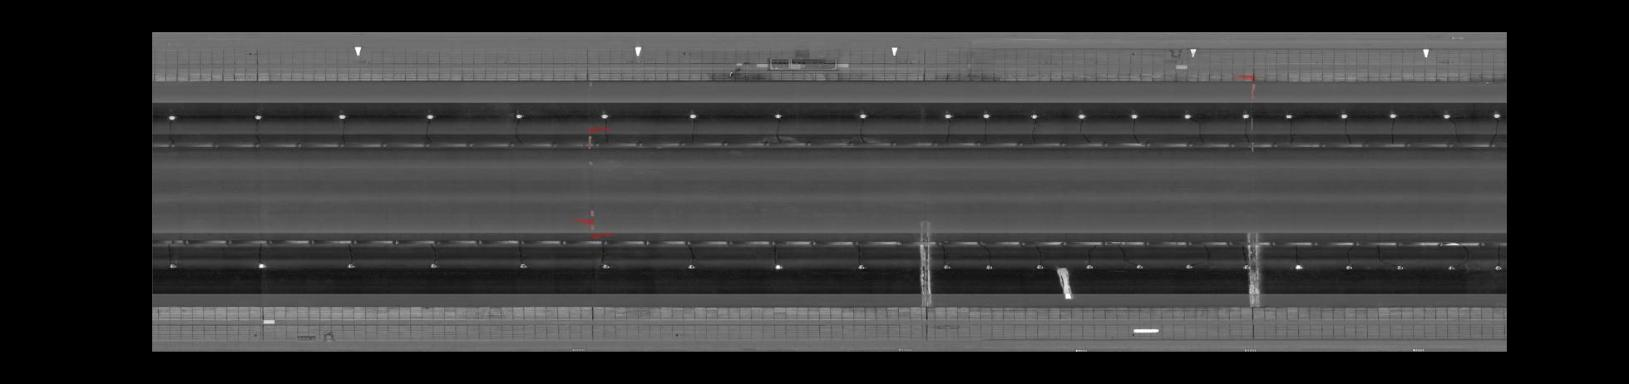light: (851, 110, 873, 122), (770, 109, 787, 122), (768, 260, 787, 272), (596, 110, 614, 122), (342, 260, 360, 272), (682, 260, 700, 272), (685, 110, 701, 122), (421, 111, 438, 122), (1490, 260, 1503, 275), (514, 260, 533, 271), (511, 110, 527, 122), (1438, 109, 1453, 121), (164, 259, 181, 271), (1130, 260, 1147, 272), (1384, 110, 1401, 120), (253, 259, 269, 271), (1336, 110, 1352, 121), (1179, 110, 1195, 121), (1073, 110, 1089, 121), (247, 113, 266, 122), (333, 112, 350, 122), (852, 262, 869, 272), (1026, 110, 1041, 121), (1489, 110, 1503, 121), (597, 262, 613, 272), (978, 111, 993, 121), (425, 260, 442, 270), (1034, 260, 1047, 272), (1445, 260, 1459, 272), (981, 262, 995, 272), (1291, 260, 1306, 271), (1342, 260, 1357, 271), (163, 113, 179, 122), (940, 110, 956, 119), (1081, 262, 1097, 271), (939, 262, 953, 272), (1181, 262, 1195, 272), (1393, 262, 1407, 272), (1238, 109, 1252, 119), (1126, 111, 1140, 121), (1283, 111, 1296, 121), (1239, 262, 1251, 271)
